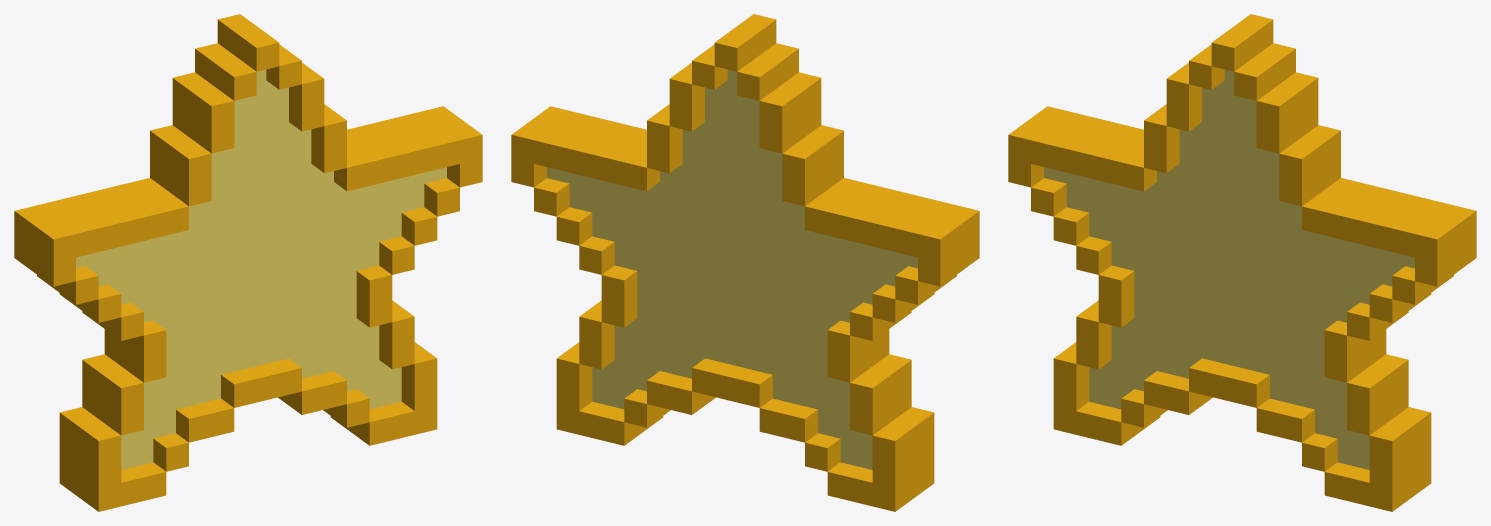
File: star.obj
3 renders of one model, left to right at view 1: azimuth 30°, elevation 25°; view 2: azimuth 150°, elevation 25°; view 3: azimuth 330°, elevation 25°, orthographic.
Bounding box in the file's own units: 1.9 × 1.8 × 0.3.
1 material, 1 textured.
